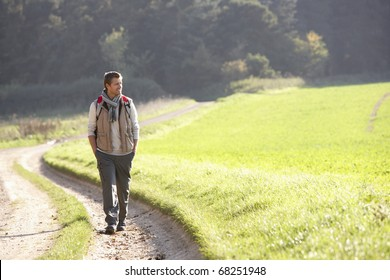person: (70, 62, 153, 245)
